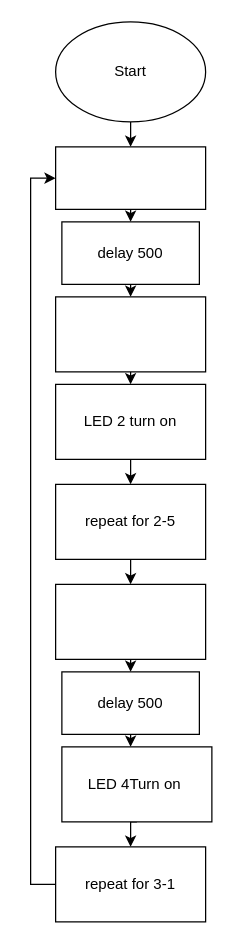
The diagram is 234 pixels wide and 944 high, and some of its shapes have lost their labels. The shapes that lost their labels are listed below. From the top down, each one's centre as x and y in pixels, then its label:
At pixel 130 177: "LED 1 turn on".
At pixel 130 334: "LED 1 turn off".
At pixel 130 621: "LED 4Turn off".
